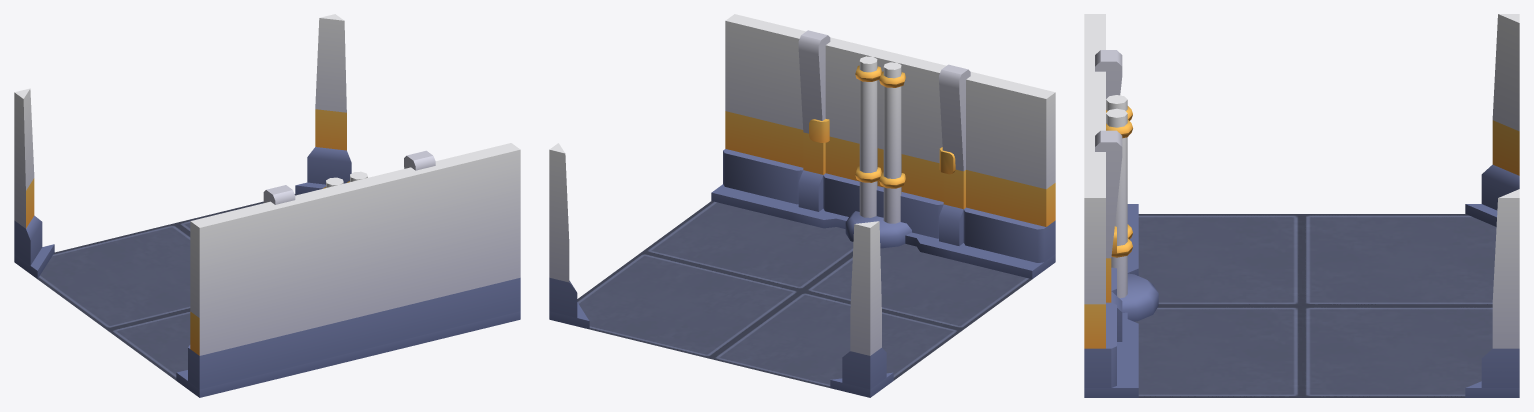
Rendered from kenney-space-corridor-wide-junction.glb.
The picture shows the model from 3 angles, left to right: view 1: azimuth 30°, elevation 25°; view 2: azimuth 150°, elevation 25°; view 3: azimuth 270°, elevation 25°; orthographic projection. The views are drawn at different scales.
Parts seen in each view (by area): view 1: corridor-wide-junction; view 2: corridor-wide-junction; view 3: corridor-wide-junction.
Boxes of the visible parts, x1,y1,x2,y2 form: corridor-wide-junction: (14,14,520,397); corridor-wide-junction: (549,14,1055,397); corridor-wide-junction: (1084,14,1519,397).
Bounding box in the file's own units: 6 × 3.19 × 6.
Materials: 1 (1 with a texture image).
